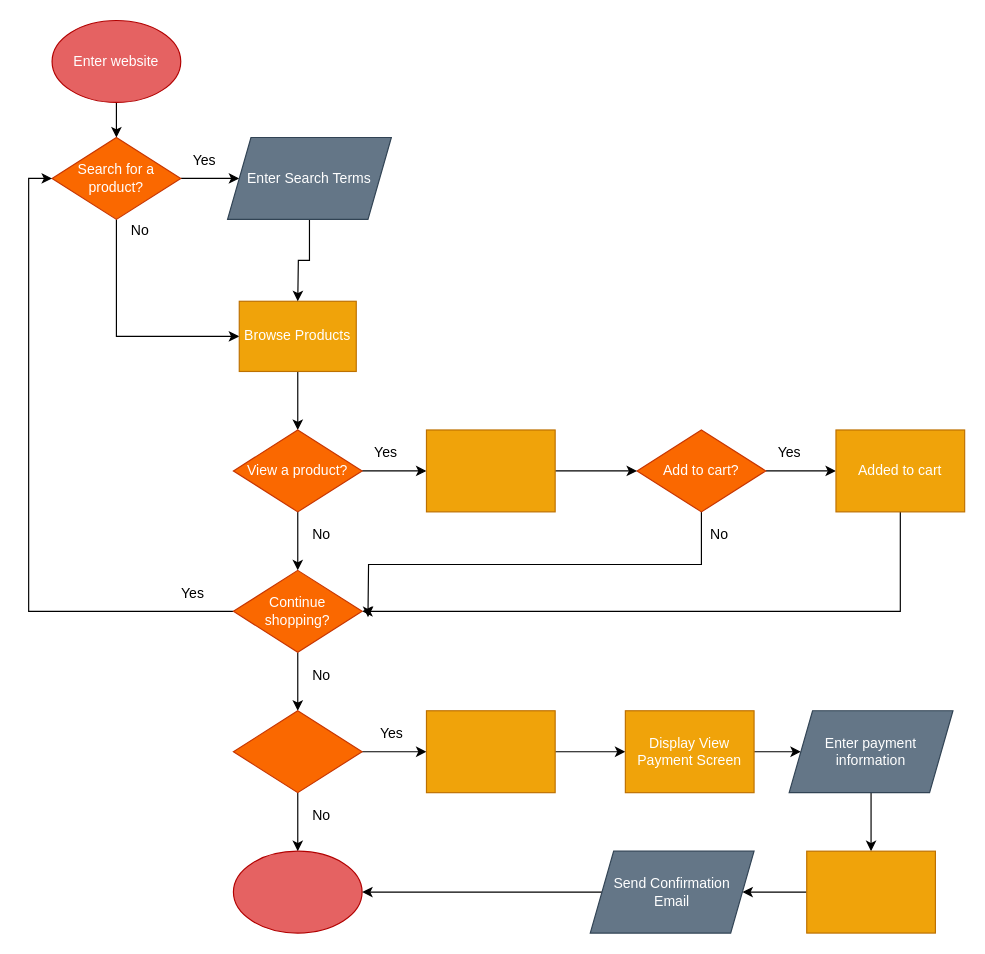
Image size: 985x954. Some labels were removed from this diagram. The centre of each missing label's shape, as x and y in pixels:
"Checkout?" goes at point 297,751.
"Display Order Confirmation Screen" goes at point 870,891.
"Display product webpage" goes at point 490,470.
"Display View Cart Screen" goes at point 490,751.
"Leave website" goes at point 297,891.
